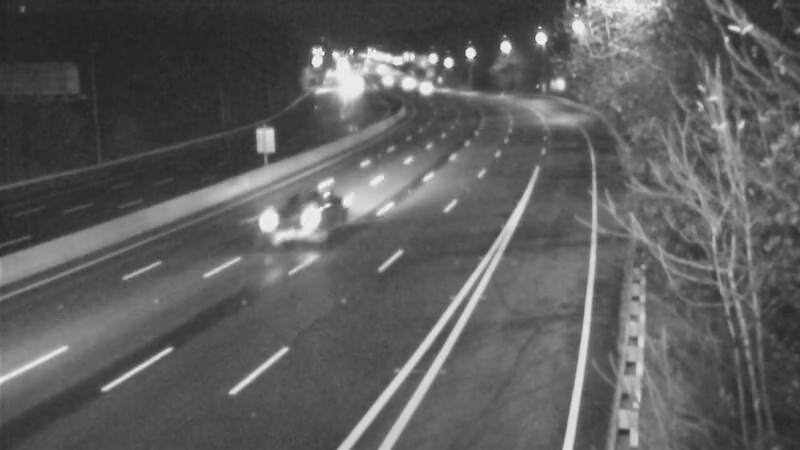vehicle: (246, 178, 326, 258), (363, 58, 413, 108), (380, 59, 430, 109), (403, 62, 453, 112)
